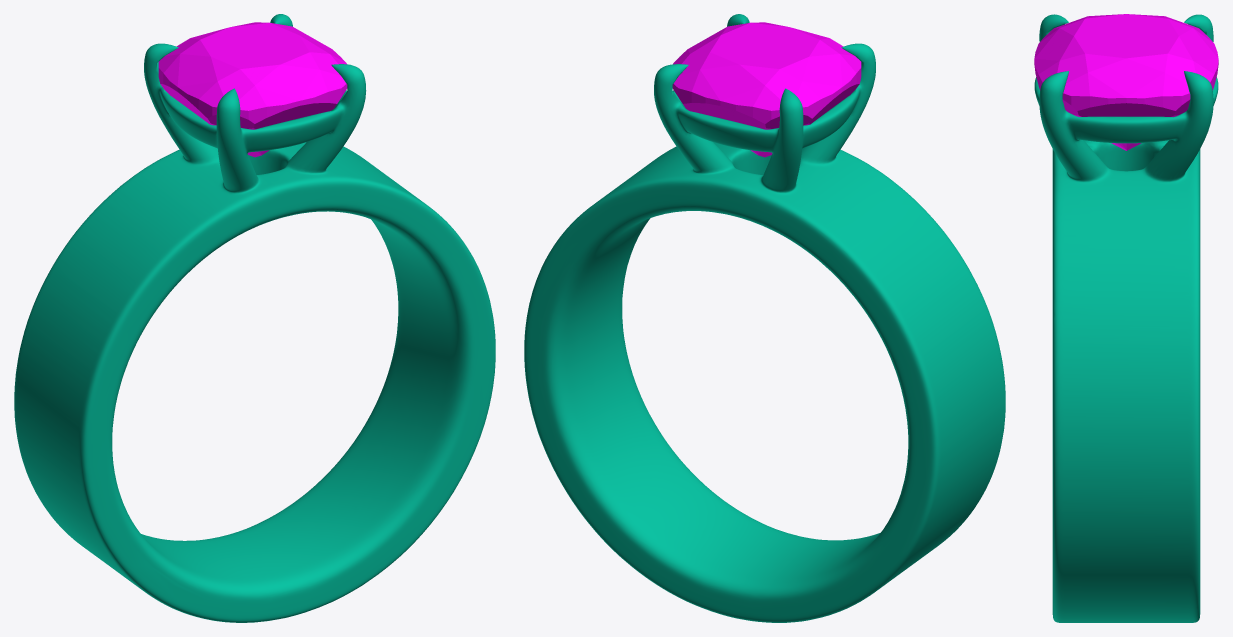
Rendered from BE1258_CU_200ct_RENDER.glb.
3 renders of one model, left to right at view 1: azimuth 30°, elevation 25°; view 2: azimuth 150°, elevation 25°; view 3: azimuth 270°, elevation 25°, orthographic. The views are drawn at different scales.
Visible parts, largest first — view 1: Metal 01, CS_Diamond_Cushion; view 2: Metal 01, CS_Diamond_Cushion; view 3: Metal 01, CS_Diamond_Cushion.
Boxes of the visible parts, box(x1,y1,x2,y2) form: Metal 01: box(14, 14, 495, 622); CS_Diamond_Cushion: box(158, 22, 347, 157); Metal 01: box(524, 14, 1005, 622); CS_Diamond_Cushion: box(672, 22, 861, 157); Metal 01: box(1034, 14, 1218, 622); CS_Diamond_Cushion: box(1034, 14, 1218, 150).
Size of the model in its own units: 20.1 by 25.32 by 7.5.
